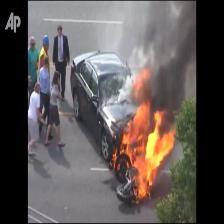fire: (119, 68, 176, 201)
